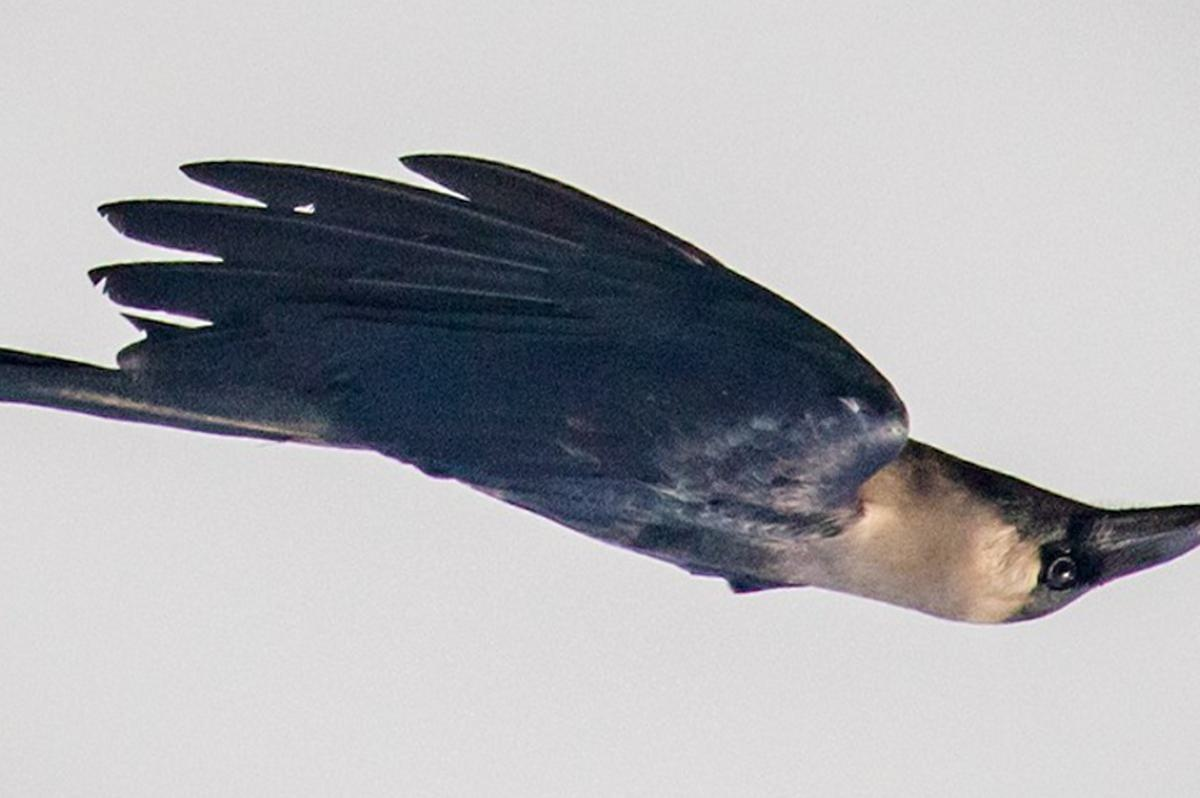crow: (11, 122, 1200, 680)
